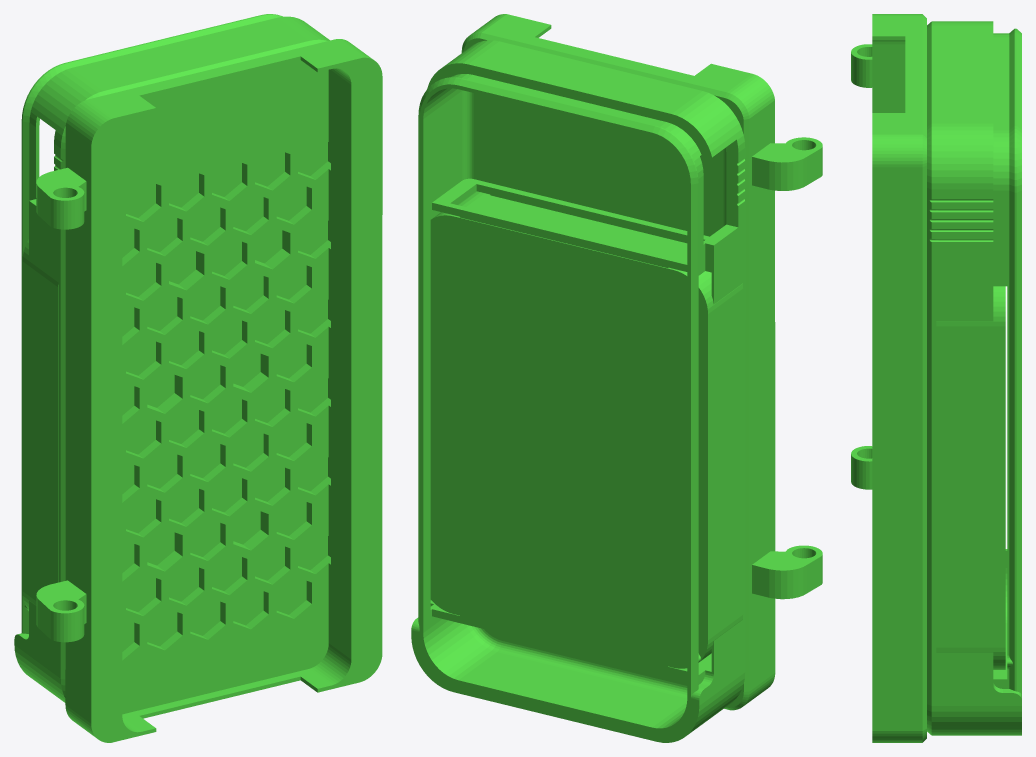
Rendered from powerbank-mount.glb.
3 renders of one model, left to right at view 1: azimuth 30°, elevation 25°; view 2: azimuth 150°, elevation 25°; view 3: azimuth 270°, elevation 25°, orthographic. The views are drawn at different scales.
Visible parts, largest first — view 1: MONTAGE_UNTER_V14_VORSCHAU.stl; view 2: MONTAGE_UNTER_V14_VORSCHAU.stl; view 3: MONTAGE_UNTER_V14_VORSCHAU.stl.
Part boxes in pixels (left/top/right/bottom): MONTAGE_UNTER_V14_VORSCHAU.stl: left=14, top=14, right=382, bottom=742; MONTAGE_UNTER_V14_VORSCHAU.stl: left=411, top=14, right=822, bottom=742; MONTAGE_UNTER_V14_VORSCHAU.stl: left=851, top=14, right=1021, bottom=742.
Size of the model in its own units: 87.27 by 155 by 39.55.
